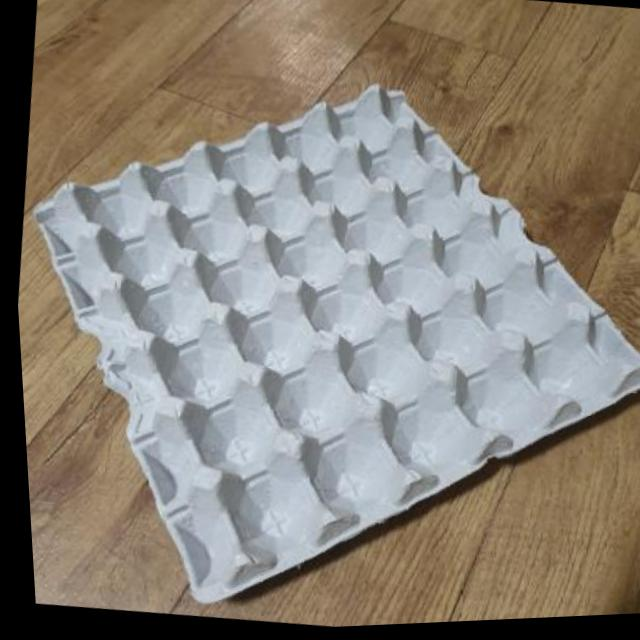box: (2, 25, 640, 640)
